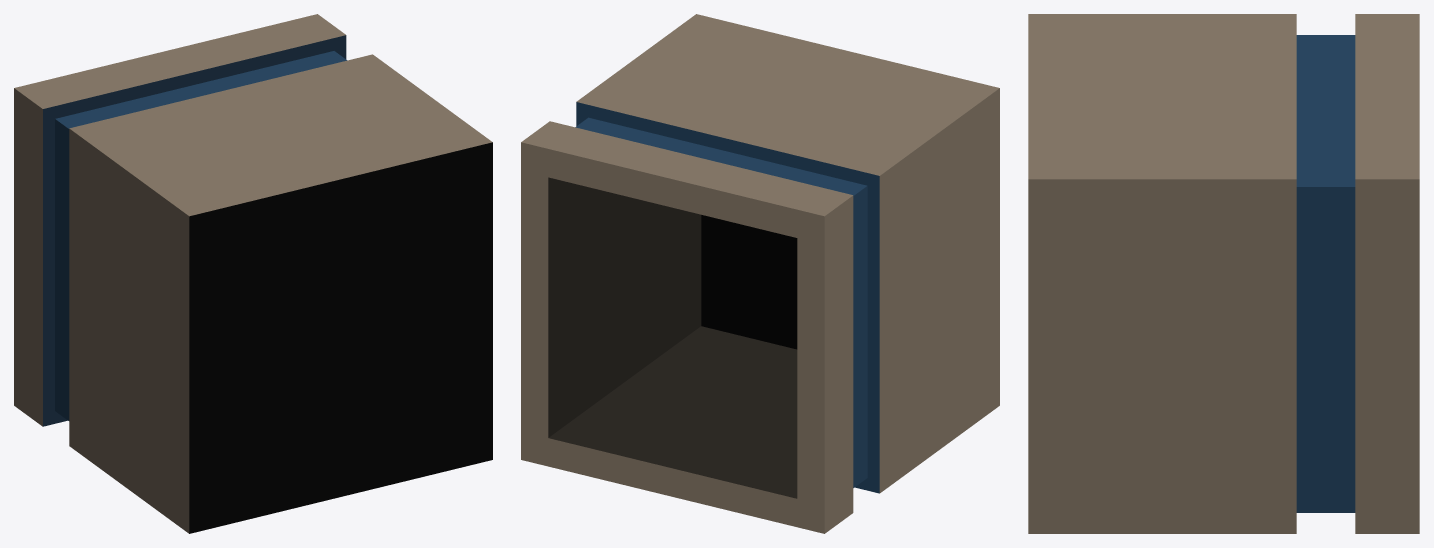
Rendered from TreasureBox.FBX.
3 renders of one model, left to right at view 1: azimuth 30°, elevation 25°; view 2: azimuth 150°, elevation 25°; view 3: azimuth 270°, elevation 25°, orthographic. The views are drawn at different scales.
Visible parts, largest first — view 1: TreasureBox; view 2: TreasureBox; view 3: TreasureBox.
Boxes of the visible parts, x1,y1,x2,y2 form: TreasureBox: (14, 14, 492, 533); TreasureBox: (521, 14, 999, 533); TreasureBox: (1028, 14, 1419, 533).
Size of the model in its own units: 39.37 by 39.37 by 39.37.
